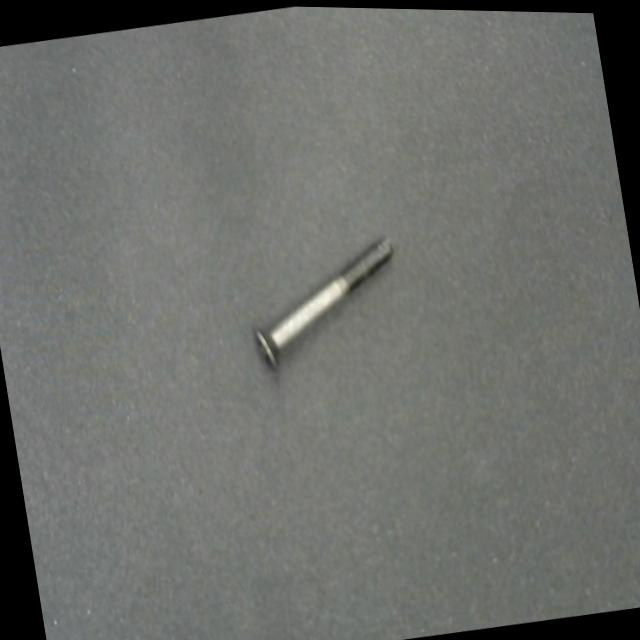FlatHeadSocketScrew: (240, 227, 410, 378)
